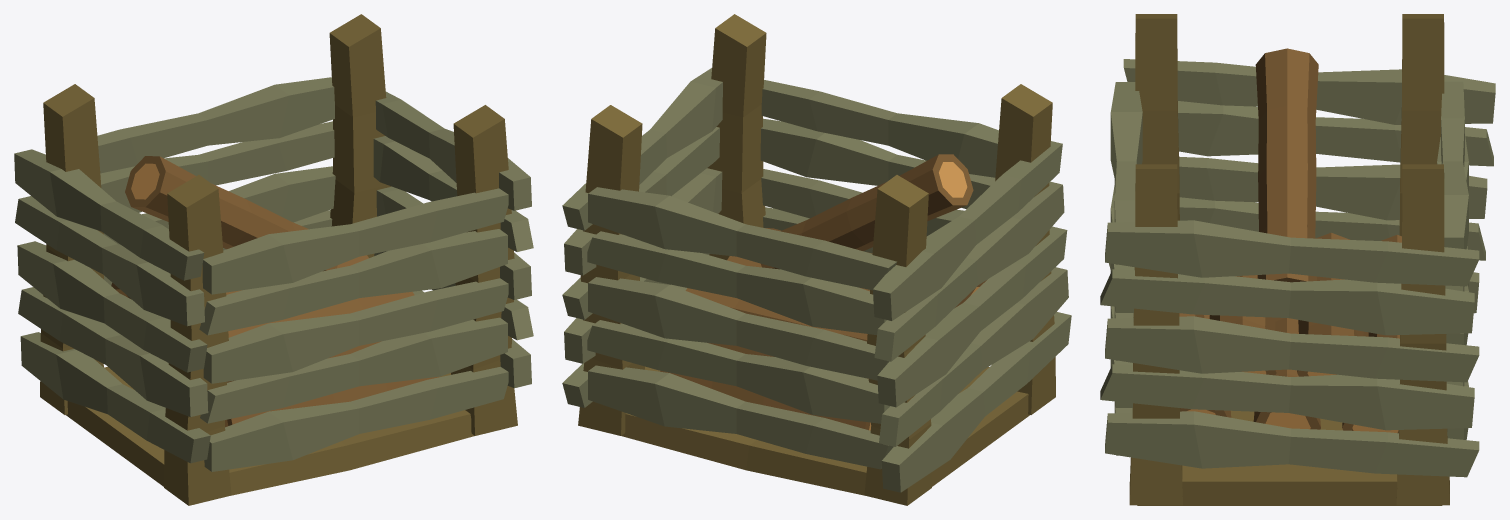
File: wood_container.fbx
The picture shows the model from 3 angles, left to right: view 1: azimuth 30°, elevation 25°; view 2: azimuth 150°, elevation 25°; view 3: azimuth 270°, elevation 25°; orthographic projection. The views are drawn at different scales.
Visible parts, largest first — view 1: WoodContainer; view 2: WoodContainer; view 3: WoodContainer.
Boxes of the visible parts, x1,y1,x2,y2 form: WoodContainer: (14,14,533,505); WoodContainer: (562,14,1071,505); WoodContainer: (1100,14,1495,505).
Size of the model in its own units: 96.6 by 83.95 by 88.9.
